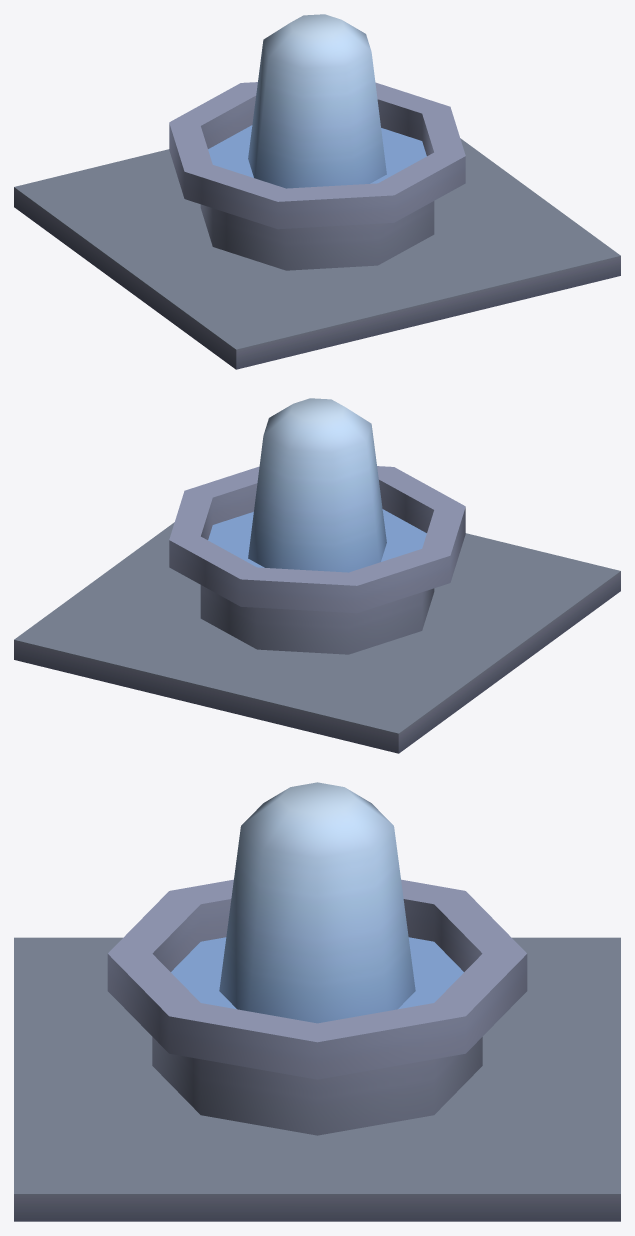
Rendered from pavement-fountain.glb.
The picture shows the model from 3 angles, top to bottom: view 1: azimuth 30°, elevation 25°; view 2: azimuth 150°, elevation 25°; view 3: azimuth 270°, elevation 25°; orthographic projection. The views are drawn at different scales.
Visible parts, largest first — view 1: pavement-fountain; view 2: pavement-fountain; view 3: pavement-fountain.
Part boxes in pixels (x1=…): pavement-fountain: x1=14, y1=14, x2=620, y2=369; pavement-fountain: x1=14, y1=398, x2=620, y2=753; pavement-fountain: x1=14, y1=782, x2=620, y2=1221.
Bounding box in the file's own units: 1 × 0.536 × 1.
1 material, 1 textured.
